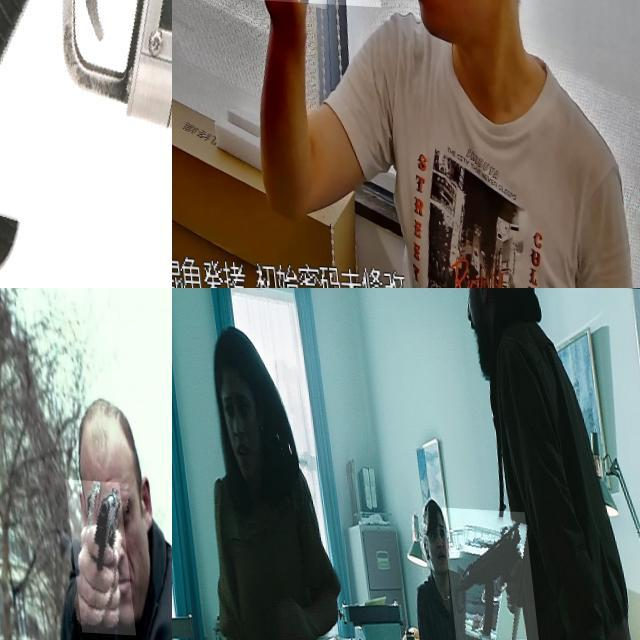gun-knife-thesis - v11 Yolov5 augmented: (0, 0, 172, 288), (191, 0, 373, 152), (436, 502, 531, 640), (60, 474, 126, 629)
